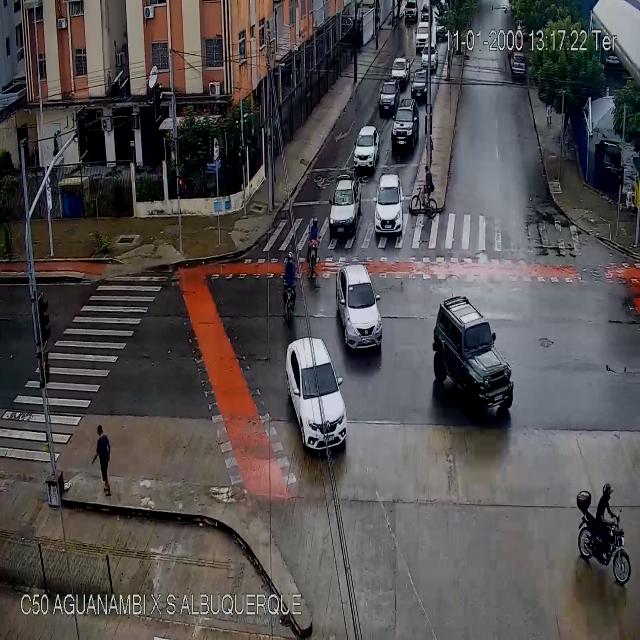Car: (432, 296, 513, 412), (285, 338, 348, 452), (336, 266, 382, 349), (374, 174, 403, 232), (330, 179, 361, 231), (391, 96, 418, 151), (354, 125, 380, 169), (379, 82, 400, 115), (411, 66, 429, 99), (390, 56, 410, 84), (420, 44, 440, 70), (415, 21, 430, 48), (511, 52, 526, 77), (405, 1, 418, 21), (436, 20, 447, 40), (420, 4, 430, 20)
Motorcycle: (574, 483, 630, 587), (282, 251, 296, 324), (308, 218, 318, 275)
